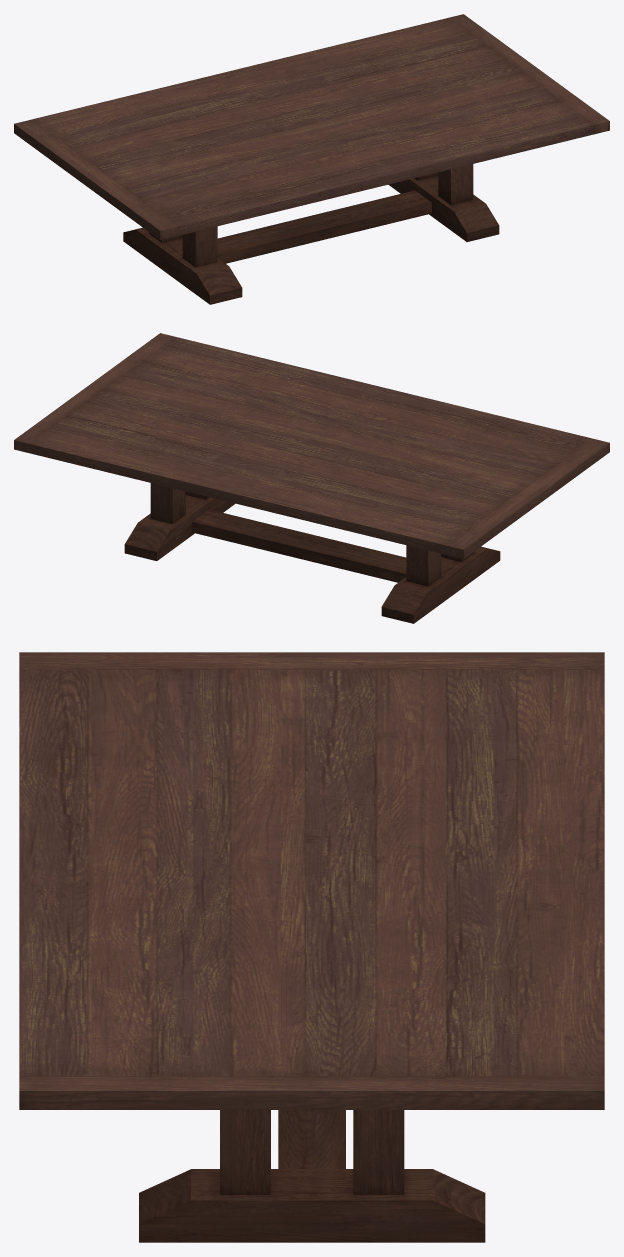
Rendered from table_medieval_trestle.obj.
3 views of the same model, one above another, from view 1: azimuth 30°, elevation 25°; view 2: azimuth 150°, elevation 25°; view 3: azimuth 270°, elevation 25° (orthographic). The views are drawn at different scales.
Parts seen in each view (by area): view 1: table_med_trestle; view 2: table_med_trestle; view 3: table_med_trestle.
Part boxes in pixels (x1,y1,x2,y2): table_med_trestle: [14, 14, 609, 304]; table_med_trestle: [14, 333, 609, 623]; table_med_trestle: [19, 652, 604, 1242].
Size of the model in its own units: 4.01 by 0.9827 by 2.26.
